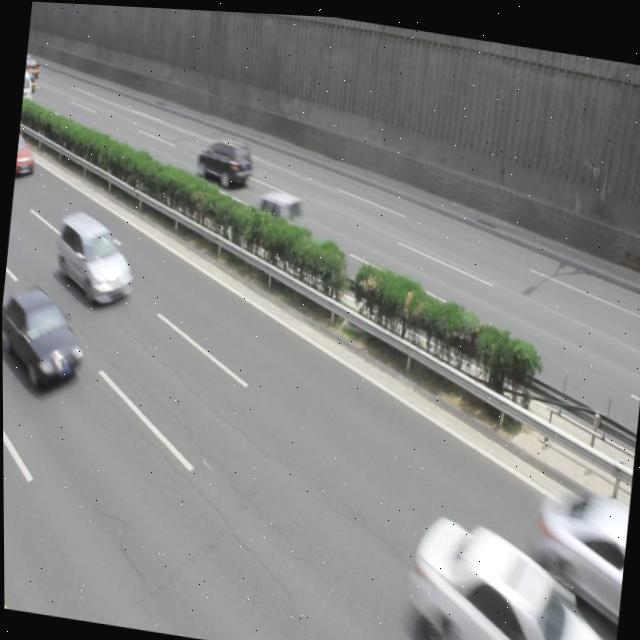car: (403, 506, 598, 640), (529, 480, 620, 606), (2, 278, 89, 393), (51, 206, 139, 311), (246, 182, 307, 249), (193, 133, 254, 188)
